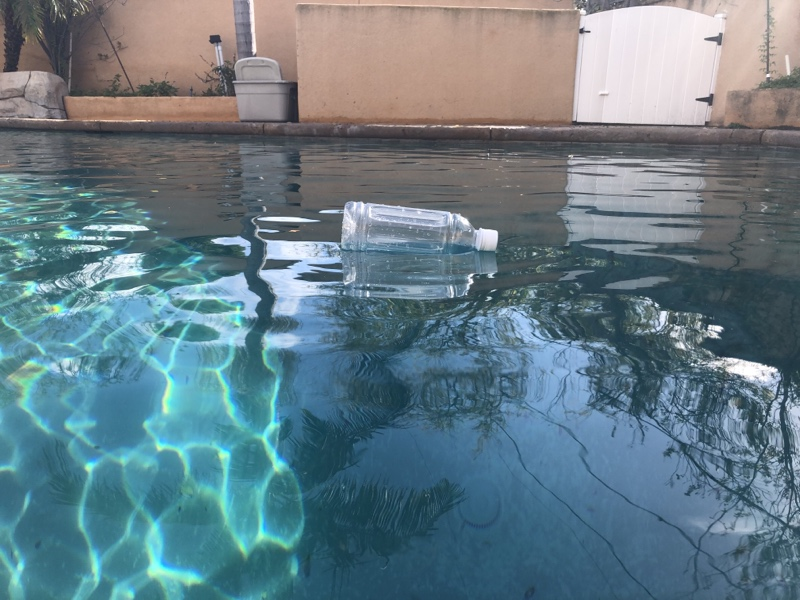Plastic Bottle: (338, 198, 501, 257)
